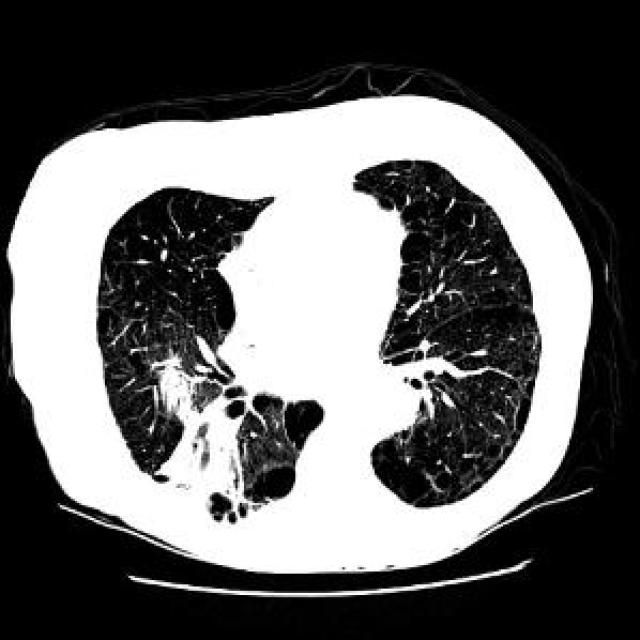Tumor: (370, 372, 413, 429)
